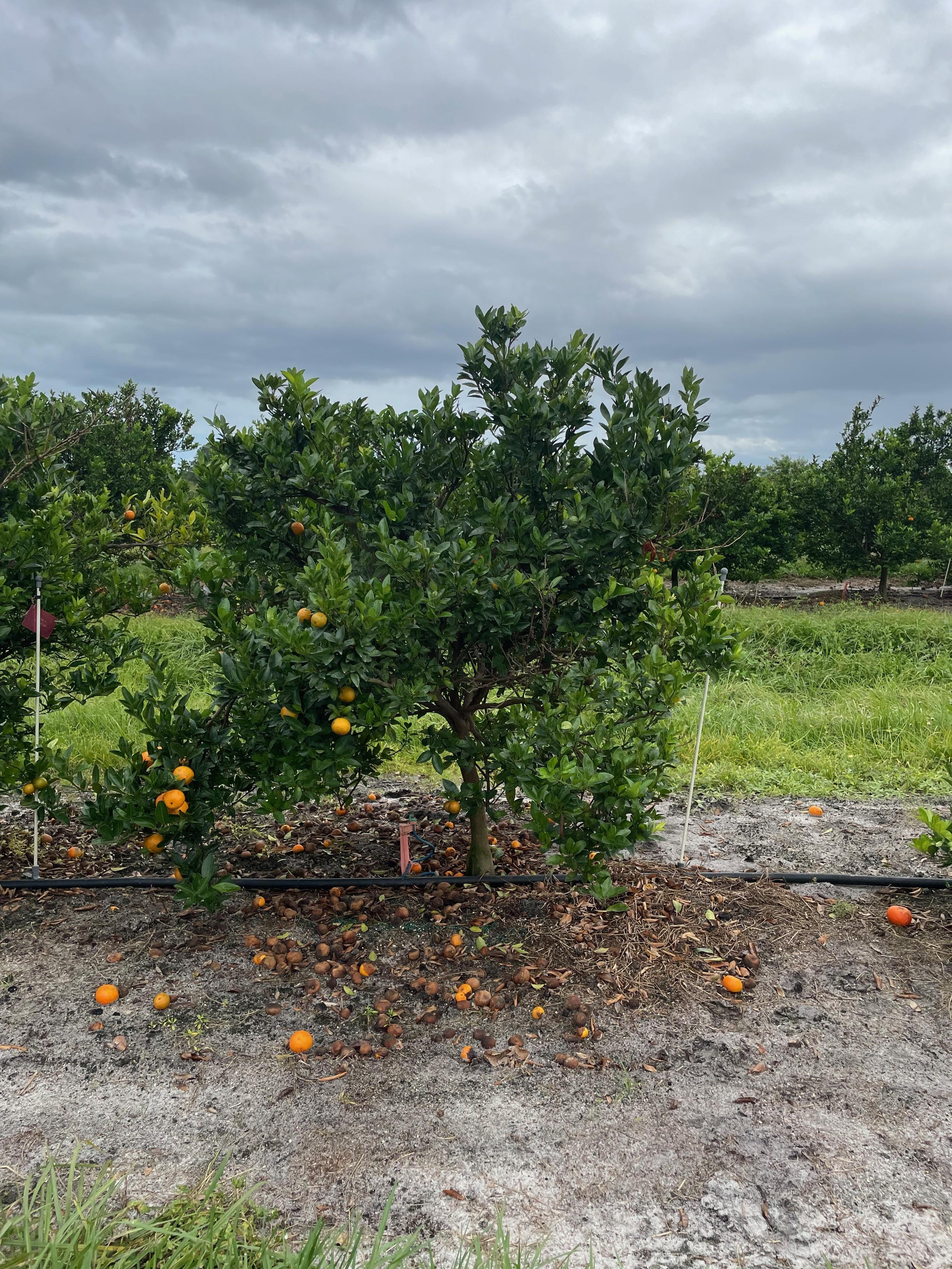fruit_on_ground: (140, 830, 167, 855), (161, 787, 187, 811), (172, 762, 196, 786), (329, 715, 352, 737), (335, 684, 357, 706), (278, 702, 301, 723), (154, 792, 175, 815), (167, 799, 190, 820), (308, 609, 329, 630), (137, 750, 158, 770), (296, 605, 315, 626), (287, 519, 307, 538), (172, 865, 190, 883), (32, 776, 49, 792), (157, 580, 173, 596), (22, 781, 37, 796), (447, 799, 461, 815), (122, 508, 137, 521), (442, 800, 454, 813), (146, 550, 158, 561)
fruit_on_tree: (884, 902, 914, 928), (288, 1029, 315, 1054), (94, 982, 120, 1006), (721, 973, 745, 995), (303, 977, 324, 995), (153, 991, 172, 1010), (743, 950, 763, 968), (563, 993, 582, 1011), (473, 988, 492, 1006), (374, 1014, 392, 1031), (512, 966, 531, 982), (243, 934, 262, 950), (65, 844, 84, 860), (456, 983, 474, 999), (314, 960, 333, 975), (252, 951, 271, 966), (287, 948, 304, 964), (359, 961, 376, 977), (260, 955, 277, 971), (270, 942, 289, 956), (357, 1042, 373, 1058), (251, 893, 267, 909), (571, 1011, 588, 1026), (421, 1011, 438, 1026), (331, 963, 348, 978), (459, 1044, 474, 1061), (265, 1001, 283, 1015), (806, 802, 824, 816), (341, 928, 357, 943), (490, 995, 506, 1010), (381, 1032, 397, 1047), (425, 980, 441, 995), (348, 897, 365, 911), (386, 1022, 403, 1036), (441, 1025, 458, 1039), (374, 997, 391, 1011), (385, 988, 400, 1003), (531, 1003, 546, 1018), (315, 942, 330, 957), (456, 999, 472, 1013), (408, 978, 424, 992), (464, 976, 480, 990), (252, 839, 268, 853), (349, 971, 364, 985), (508, 1033, 523, 1047), (481, 1035, 496, 1049), (395, 905, 410, 919), (449, 932, 464, 946), (534, 955, 550, 968), (544, 977, 561, 989), (441, 945, 456, 958), (575, 1026, 590, 1039), (375, 1046, 390, 1059), (264, 934, 279, 947), (564, 1055, 579, 1068), (345, 819, 360, 832), (315, 923, 329, 936), (477, 944, 491, 957), (443, 845, 457, 858), (38, 831, 52, 844), (328, 885, 343, 897), (239, 848, 254, 860), (339, 1006, 352, 1019), (410, 860, 423, 873), (554, 1051, 568, 1063), (303, 841, 316, 853), (454, 990, 466, 1003), (279, 823, 293, 834), (291, 842, 305, 853), (407, 949, 419, 961), (509, 839, 522, 850), (334, 805, 347, 816), (432, 823, 444, 834), (356, 912, 368, 923), (487, 835, 499, 846), (331, 827, 343, 837), (443, 820, 455, 830), (321, 837, 332, 847), (367, 792, 378, 801)
